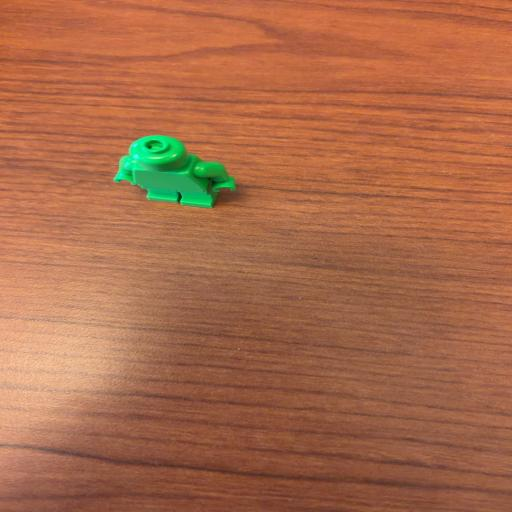UnoQ-minifig-detector: (113, 134, 236, 209)
